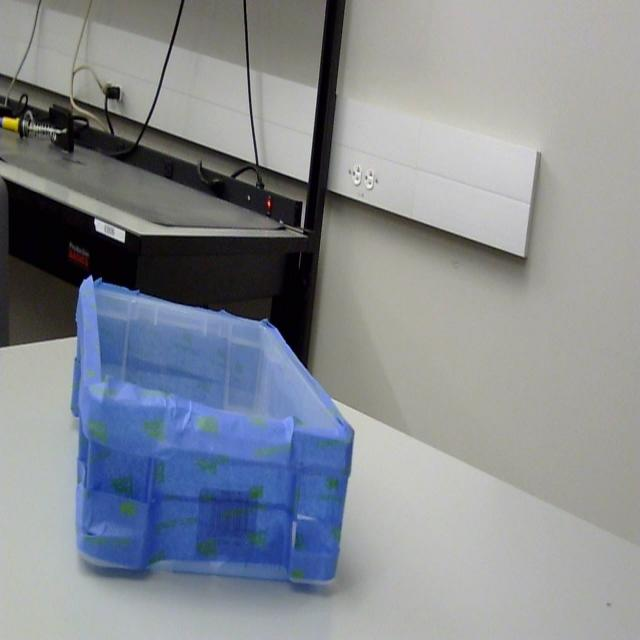bucket: (70, 278, 356, 595)
